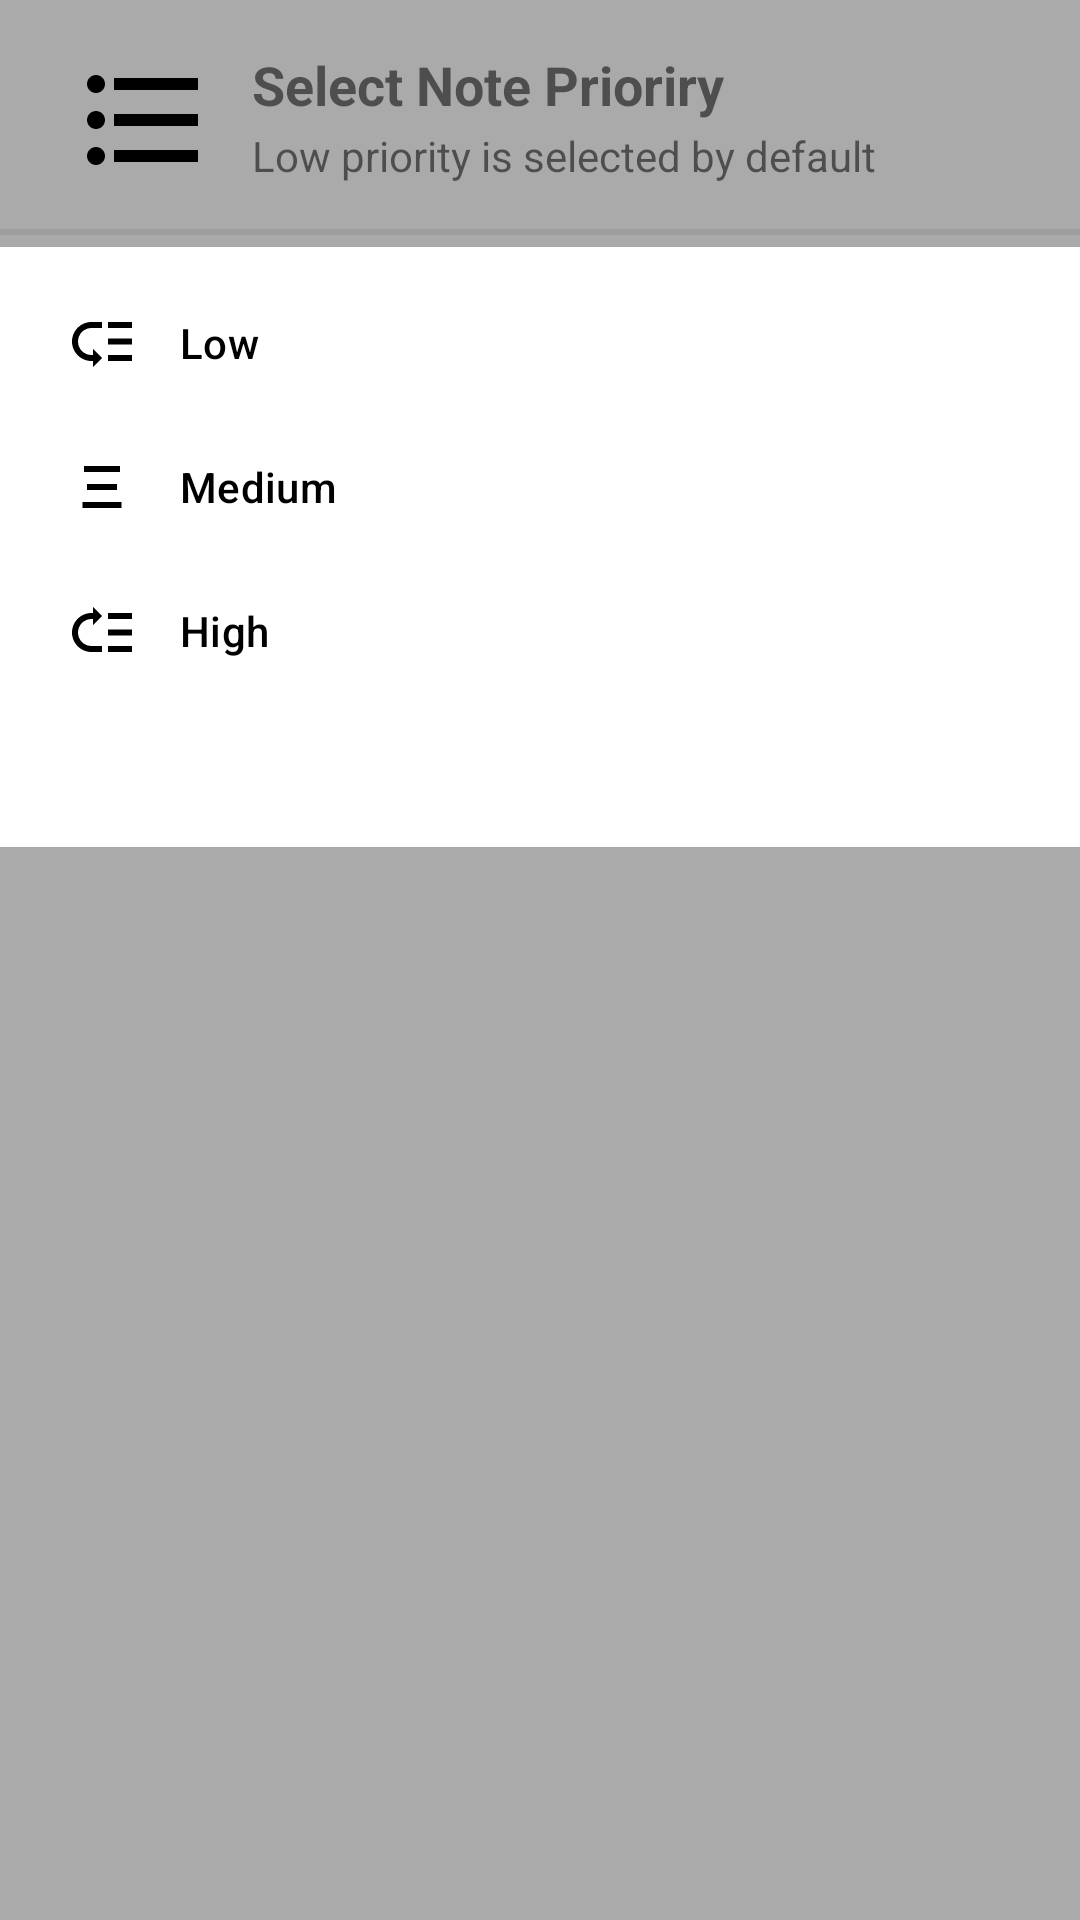

Named icons in this screenshot (1080 × 1920) and their centers, point (x, y):
priority nav drawer: point (142, 120)
